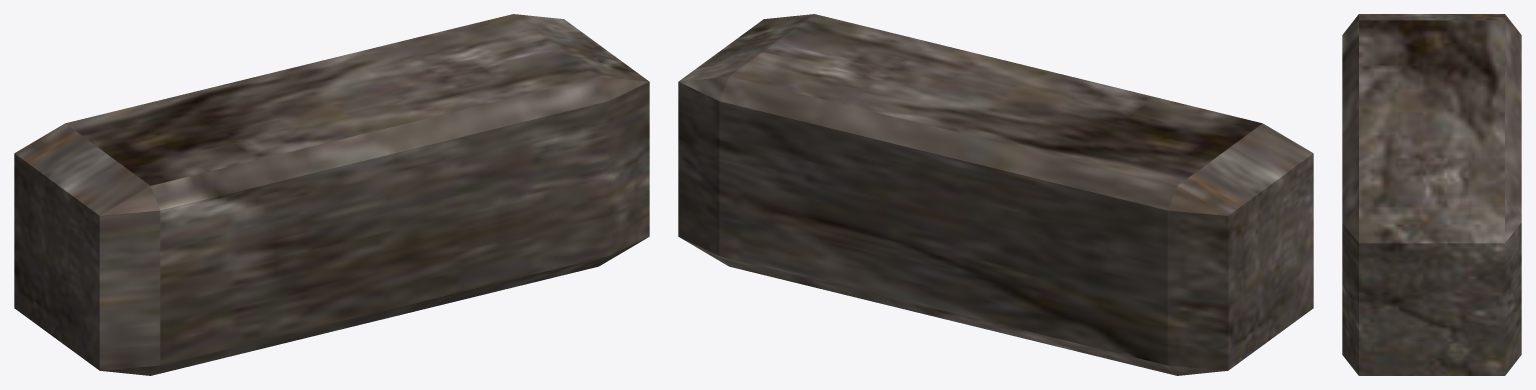
File: BoundaryRockLong.fbx
3 renders of one model, left to right at view 1: azimuth 30°, elevation 25°; view 2: azimuth 150°, elevation 25°; view 3: azimuth 270°, elevation 25°, orthographic. The views are drawn at different scales.
Visible parts, largest first — view 1: Cube.029; view 2: Cube.029; view 3: Cube.029.
Part boxes in pixels (x1,y1,x2,y2): Cube.029: [14, 14, 649, 375]; Cube.029: [678, 14, 1313, 375]; Cube.029: [1342, 14, 1521, 375].
Size of the model in its own units: 934 by 308 by 308.
1 material, 1 textured.
